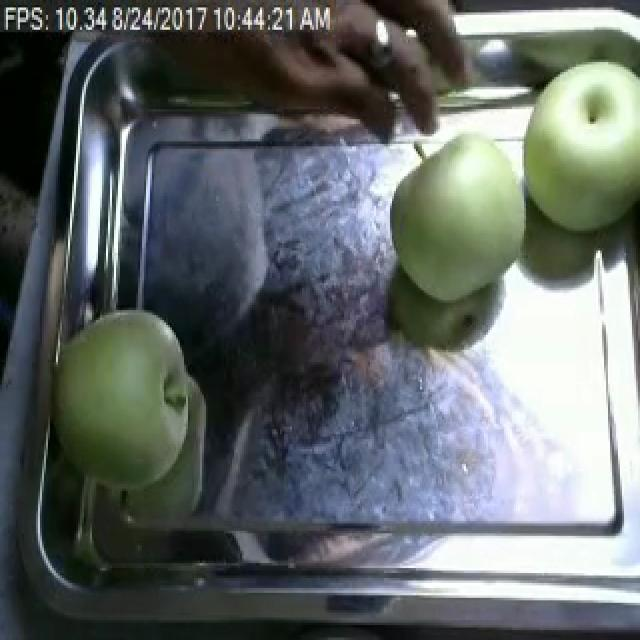50-_ripeness: (28, 282, 205, 508), (389, 134, 524, 318), (530, 38, 640, 260)
